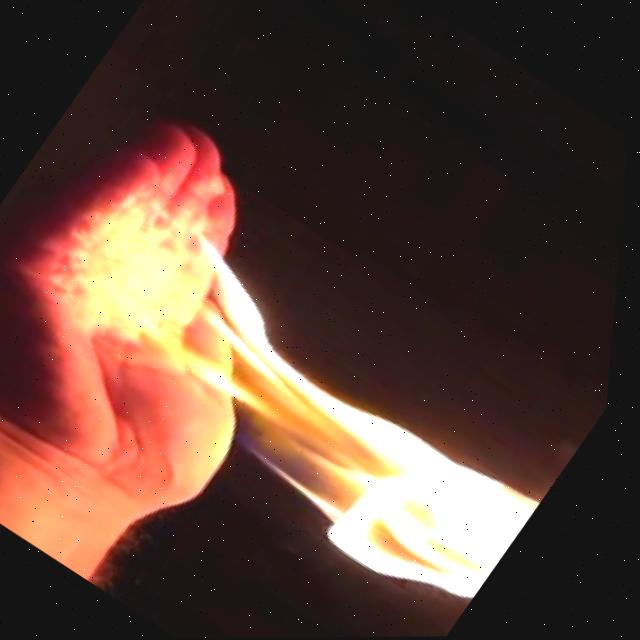Fire: (52, 213, 590, 638)
